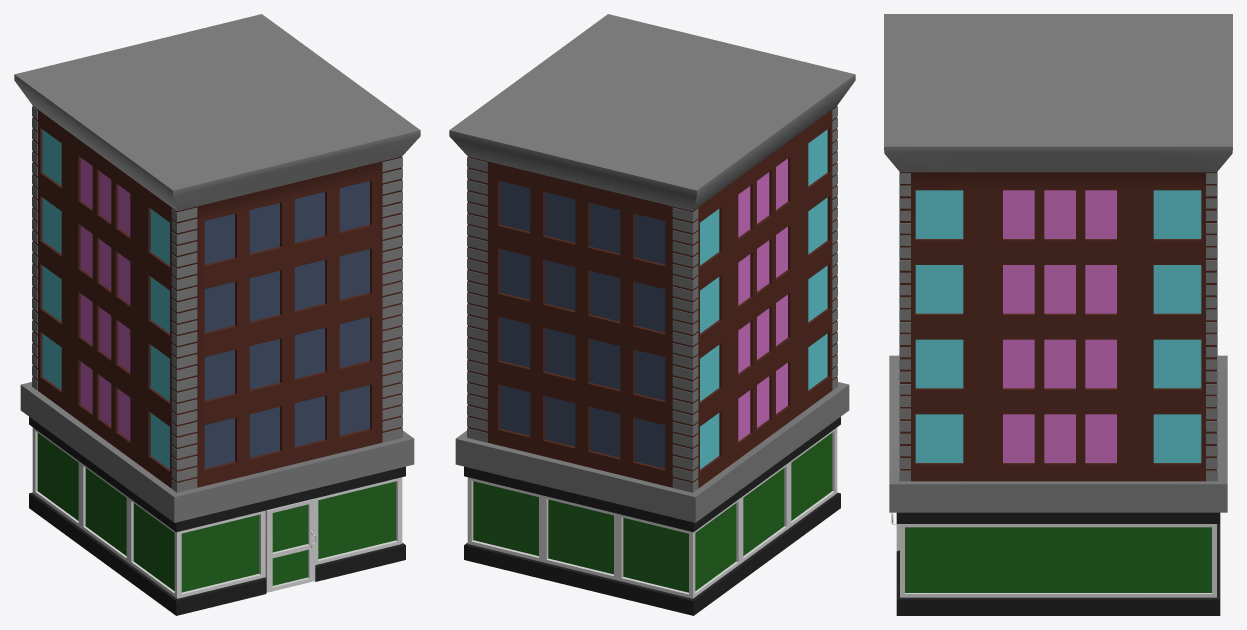
File: building9-1.fbx
3 renders of one model, left to right at view 1: azimuth 30°, elevation 25°; view 2: azimuth 150°, elevation 25°; view 3: azimuth 270°, elevation 25°, orthographic. The views are drawn at different scales.
Visible parts, largest first — view 1: building.002; view 2: building.002; view 3: building.002.
Part boxes in pixels (x1=…): building.002: x1=14, y1=14, x2=420, y2=615; building.002: x1=449, y1=14, x2=855, y2=615; building.002: x1=884, y1=14, x2=1232, y2=615.
Size of the model in its own units: 900 by 1500 by 1000.
